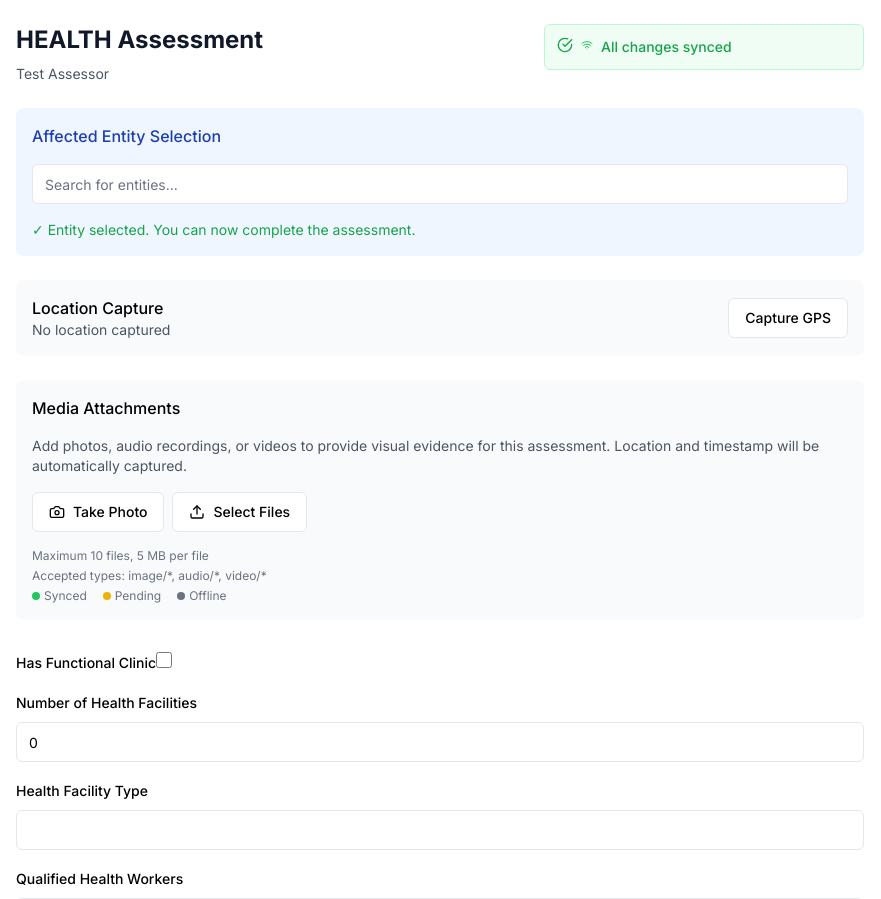
Test case: AssessmentForm › reset button clears form
Replace the text in the number field labelled "Number of Health Facilities" with "5" at (440, 742), box [16,722,864,762]
(page scrolled)
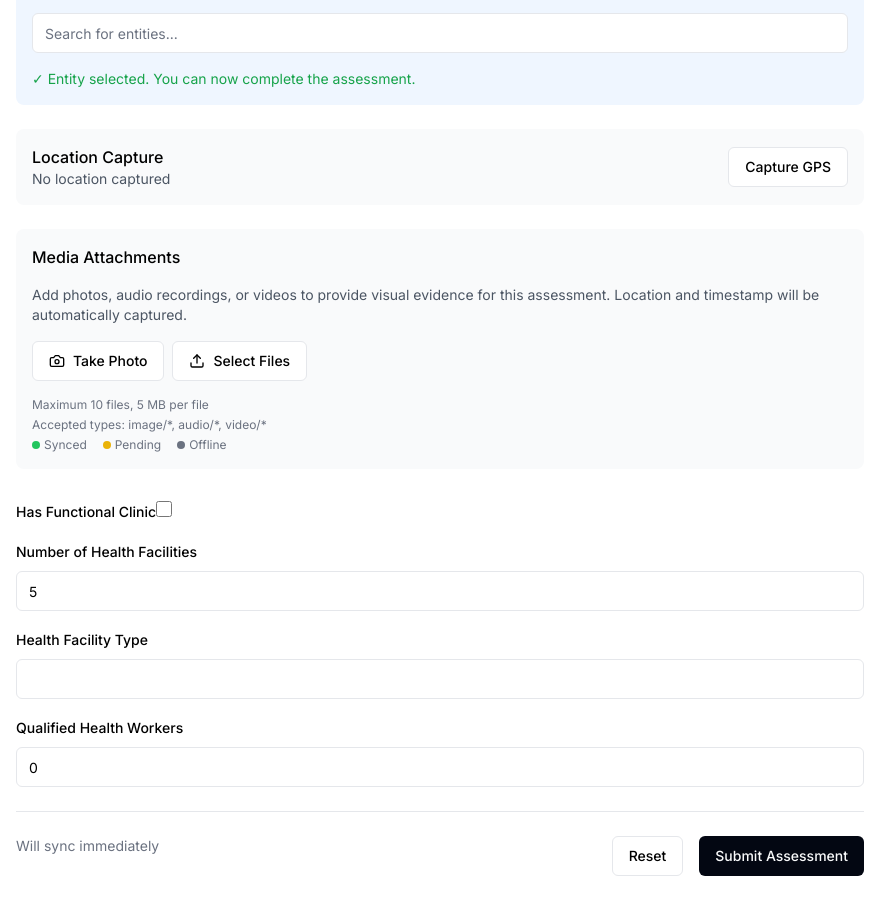
Click the button "Reset" at (648, 856), box [612,836,683,876]
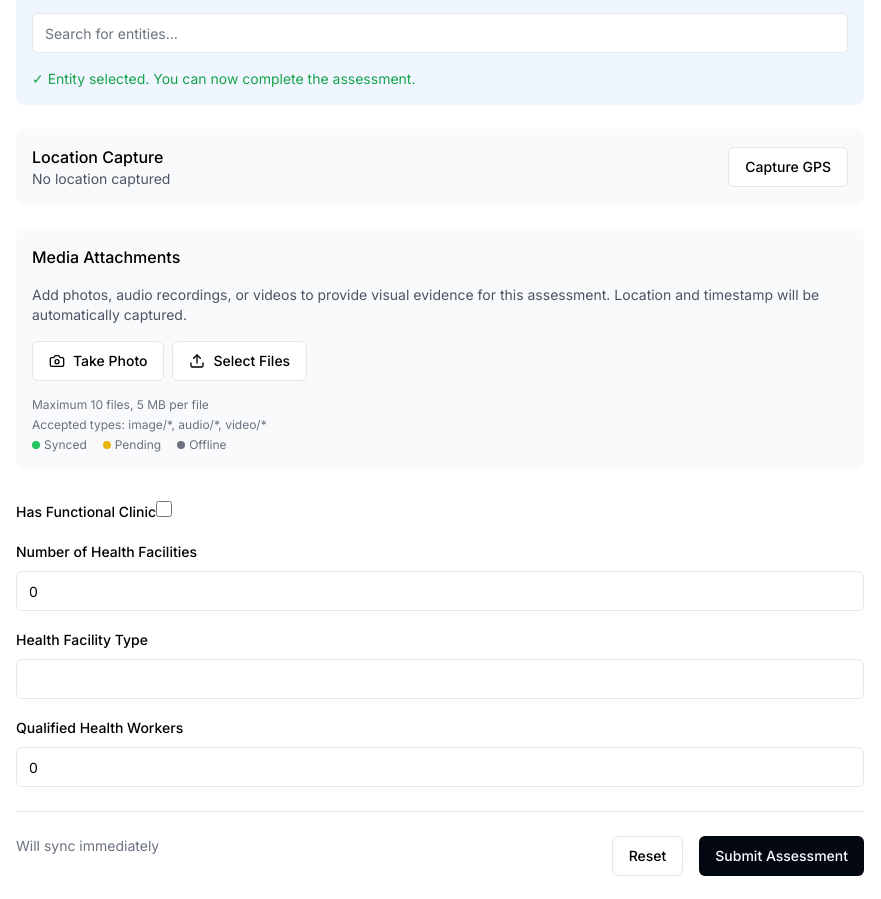
Expected: the number field labelled "Number of Health Facilities" holds "0", [16,571,864,611]
